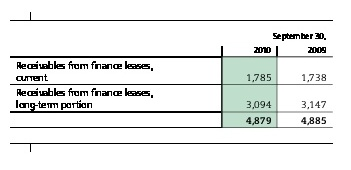table: (0, 0, 351, 170)
